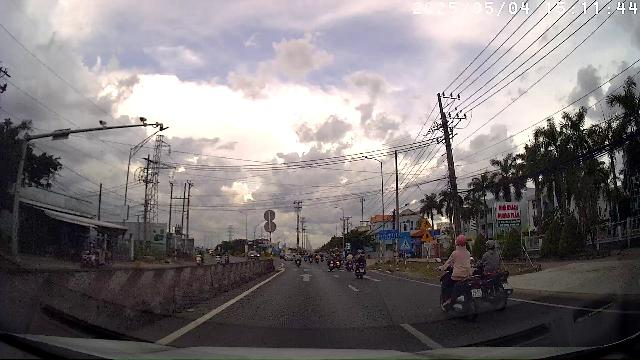423a-duong-nguoi-di-bo-sang-ngang-1: (399, 238, 411, 250)
